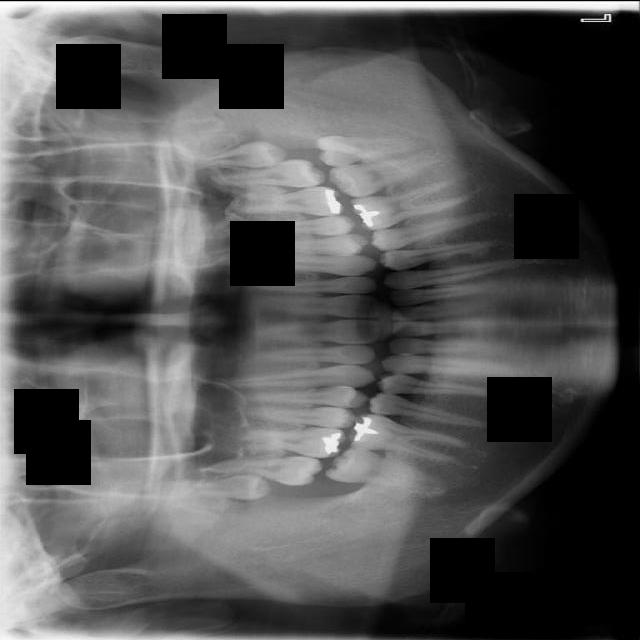3M ESPE Implant: (176, 473, 271, 499)
52: (346, 412, 379, 442), (348, 202, 380, 228), (322, 185, 344, 215), (321, 430, 346, 455)
73: (566, 58, 574, 62)
BioHorizons Implant: (210, 155, 325, 187)
BioLife Implant: (200, 138, 287, 170)
Biomet 3i Implant: (315, 134, 414, 167)
Blue Sky Bio Implant: (326, 145, 454, 203)
Caries: (209, 454, 323, 490)
Implant: (324, 443, 444, 492)
